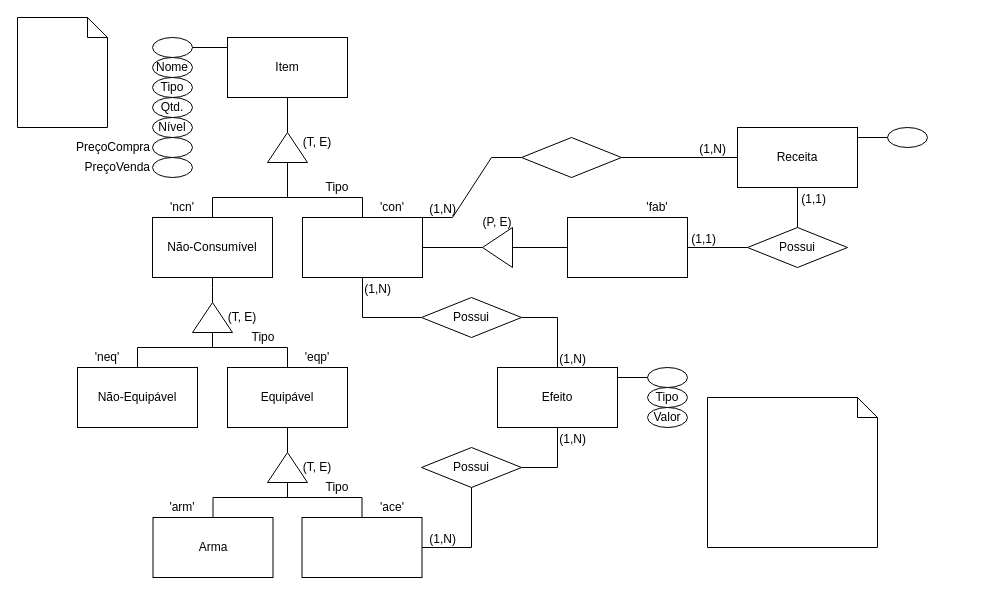
Image size: 998x595. Some labels were removed from this diagram. Here are the shapes that lost their labels. From the top down, the box of each, then its label:
(152, 36, 192, 58): Sigla
(16, 16, 108, 128): Nível ★ ★ ★ ★ ★ ★
(520, 136, 622, 178): Usado
(886, 126, 928, 148): IdReceita
(302, 216, 422, 278): Consumível
(566, 216, 688, 278): Fabricável
(646, 366, 688, 388): IdEfeito
(706, 396, 878, 548): Tipo Cura Aumento de vida Recuperação de energia Aumento de energia Ataque Sorte
(301, 516, 422, 578): Acessório
